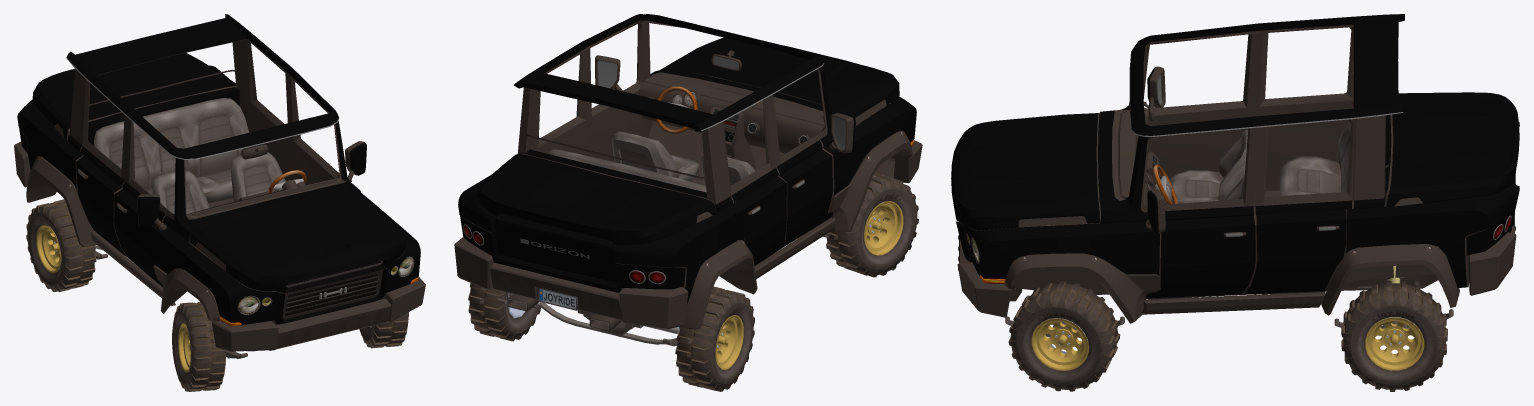
Rendered from car.glb.
The picture shows the model from 3 angles, left to right: view 1: azimuth 30°, elevation 25°; view 2: azimuth 150°, elevation 25°; view 3: azimuth 270°, elevation 25°; orthographic projection. The views are drawn at different scales.
Parts seen in each view (by area): view 1: node_id327, node_id335, node_id367, node_id337, node_id324, node_id317, node_id313, node_id303, node_id315, node_id320, node_id271, node_id329 (+3 smaller); view 2: node_id327, node_id335, node_id367, node_id317, node_id324, node_id320, node_id310, node_id322, node_id313, node_id291, node_id315, node_id356 (+7 smaller); view 3: node_id327, node_id335, node_id367, node_id303, node_id310, node_id306, node_id299, node_id308, node_id301, node_id341, node_id329, node_id289 (+1 smaller).
Part boxes in pixels (x1,y1,x2,y2): node_id327: [17, 14, 420, 325]; node_id335: [14, 38, 425, 351]; node_id367: [94, 98, 285, 213]; node_id337: [282, 260, 383, 319]; node_id324: [173, 302, 225, 391]; node_id317: [26, 199, 96, 292]; node_id313: [27, 213, 64, 285]; node_id303: [359, 312, 408, 348]; node_id315: [36, 225, 61, 273]; node_id320: [172, 311, 192, 384]; node_id271: [138, 196, 159, 227]; node_id329: [66, 57, 339, 211]; node_id327: [458, 14, 916, 304]; node_id335: [454, 20, 922, 329]; node_id367: [547, 131, 754, 192]; node_id317: [675, 286, 754, 391]; node_id324: [826, 172, 918, 277]; node_id320: [857, 188, 915, 269]; node_id310: [468, 283, 540, 341]; node_id322: [864, 201, 903, 255]; node_id313: [711, 302, 753, 383]; node_id291: [497, 293, 679, 346]; node_id315: [715, 315, 743, 369]; node_id356: [507, 294, 621, 331]; node_id327: [951, 14, 1519, 298]; node_id335: [957, 24, 1516, 323]; node_id367: [1169, 120, 1351, 203]; node_id303: [1008, 281, 1120, 391]; node_id310: [1341, 281, 1447, 391]; node_id306: [1350, 305, 1438, 384]; node_id299: [1016, 307, 1102, 385]; node_id308: [1365, 317, 1424, 370]; node_id301: [1031, 318, 1088, 370]; node_id341: [984, 223, 1437, 294]; node_id329: [1129, 51, 1511, 240]; node_id289: [1153, 164, 1178, 204].
Size of the model in its own units: 0.512 by 0.4891 by 0.9237.
Materials: 46 (46 with a texture image).
